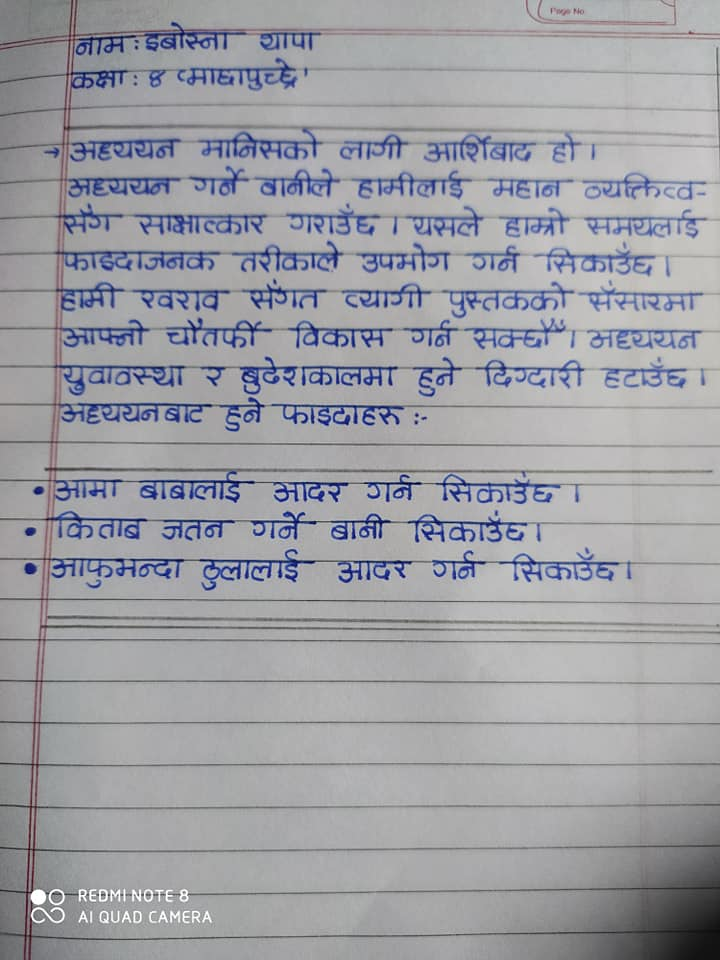text: (235, 354, 402, 396), (47, 550, 187, 588), (55, 360, 191, 397), (411, 508, 529, 550), (58, 396, 212, 427), (442, 280, 571, 317), (196, 126, 324, 163), (434, 471, 565, 507), (500, 549, 624, 587), (201, 546, 306, 589), (136, 207, 271, 240), (421, 132, 541, 168), (134, 470, 257, 505), (275, 397, 403, 430), (577, 169, 701, 203), (474, 357, 592, 392), (536, 245, 657, 279), (582, 281, 706, 313), (580, 208, 703, 240), (57, 248, 220, 272), (47, 510, 152, 546), (285, 318, 394, 352), (585, 325, 704, 356), (285, 202, 384, 239), (161, 316, 274, 348), (184, 59, 302, 89), (358, 169, 472, 200), (466, 318, 568, 352), (143, 22, 241, 57), (135, 281, 234, 315), (63, 174, 182, 202), (234, 242, 341, 273), (70, 134, 184, 163), (354, 241, 452, 274), (600, 356, 691, 391), (339, 281, 432, 313), (57, 319, 153, 350), (242, 279, 329, 312), (244, 507, 320, 543), (254, 168, 339, 200), (407, 207, 482, 242), (270, 477, 353, 507), (491, 170, 571, 201), (331, 556, 413, 586), (59, 203, 125, 240), (188, 159, 247, 200), (158, 514, 233, 546), (503, 206, 568, 241), (57, 280, 124, 313), (337, 132, 407, 163), (330, 511, 391, 546), (414, 354, 461, 397), (428, 550, 489, 583), (256, 28, 327, 56), (365, 474, 427, 506), (50, 476, 124, 502), (218, 397, 266, 433), (65, 67, 130, 93), (407, 319, 459, 350), (468, 245, 523, 274), (74, 34, 133, 57), (546, 130, 583, 166), (199, 361, 232, 393), (141, 63, 168, 92)
